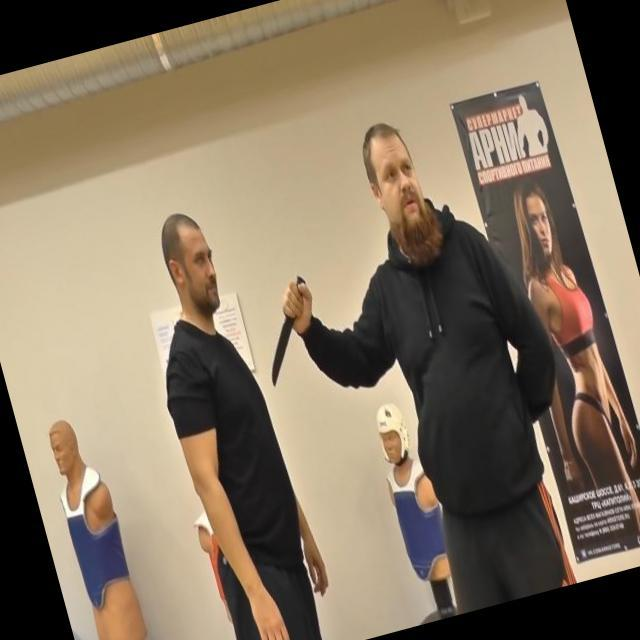Knife: (243, 269, 334, 392)
